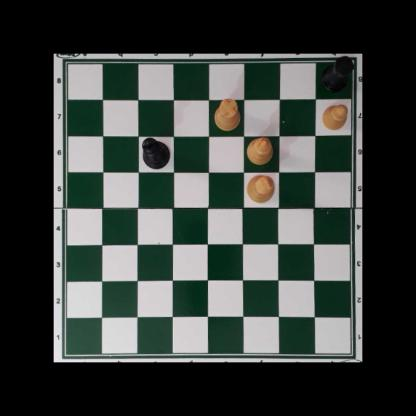black-king: (140, 137, 170, 169)
black-rook: (319, 54, 354, 93)
white-bishop: (247, 136, 272, 165)
white-king: (245, 174, 275, 203)
white-pawn: (322, 103, 348, 130)
white-rook: (214, 99, 241, 130)
